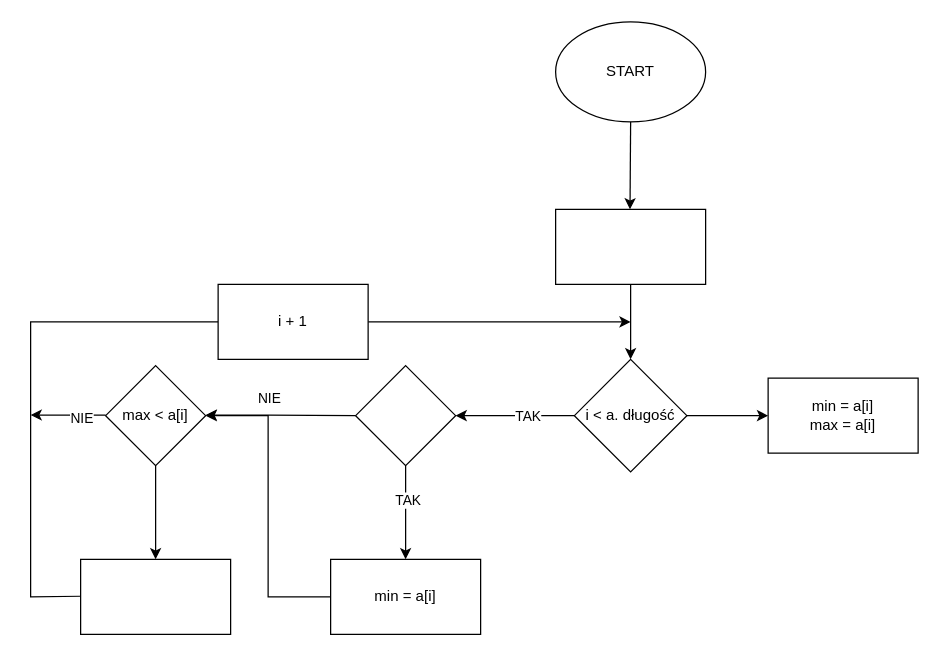
This 940x656 diagram has some shape labels left out. Each missing label, with the box of its shape:
a = i = 0 min = a[0] max = a[0]: (554, 208, 706, 284)
max = a[i]: (79, 558, 231, 634)
min < a[i]: (354, 364, 456, 466)
